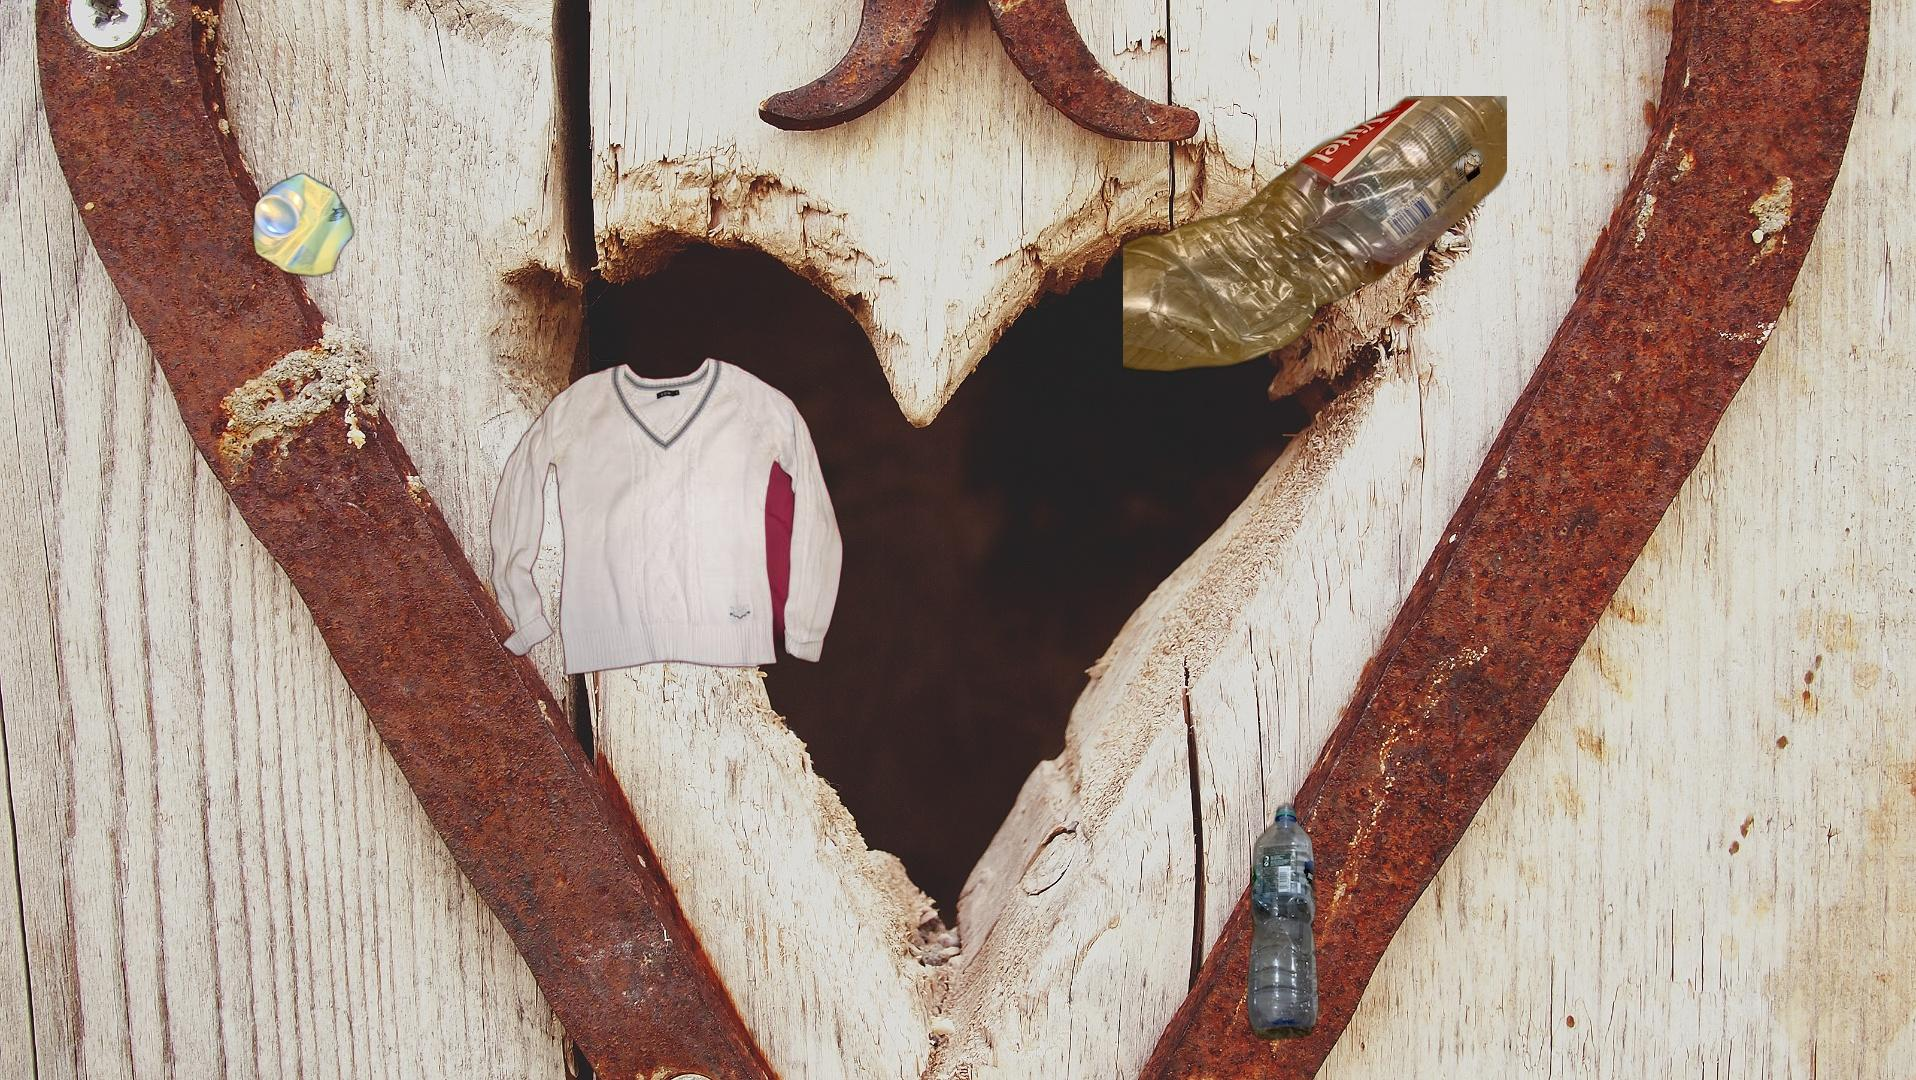clothes: (486, 353, 847, 680)
metal-cans: (249, 167, 359, 283)
plastic-bottles: (1122, 96, 1507, 376), (1244, 800, 1323, 1044)
